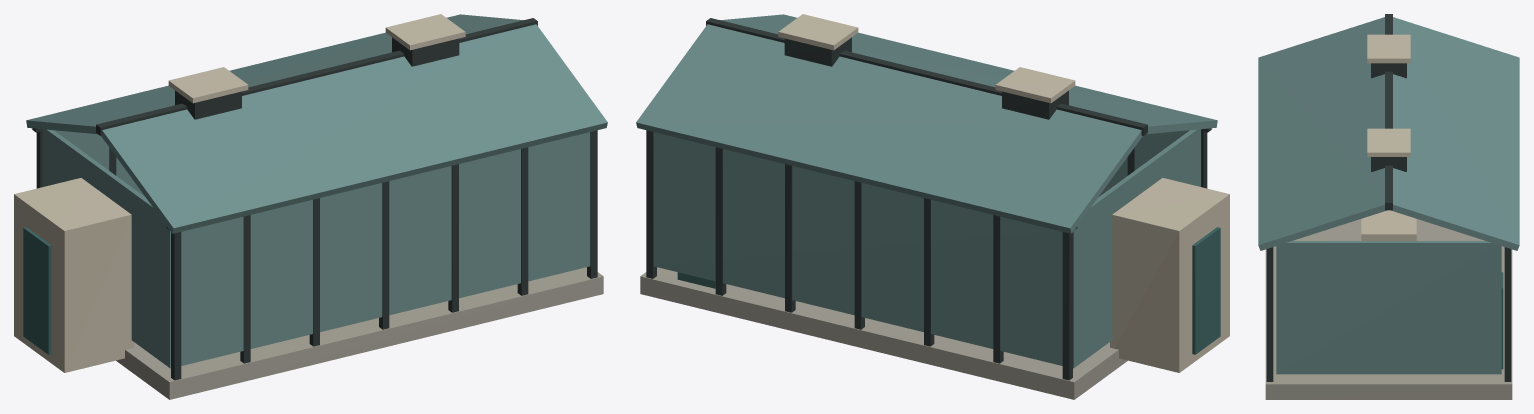
Rendered from research-greenhouse.source.glb.
3 renders of one model, left to right at view 1: azimuth 30°, elevation 25°; view 2: azimuth 150°, elevation 25°; view 3: azimuth 270°, elevation 25°, orthographic. The views are drawn at different scales.
Visible parts, largest first — view 1: research-greenhouse-pitched-roof-panel-1.04-mesh, research-greenhouse-lower-side-glazing-1.93-mesh, research-greenhouse-cream-service-airlock-shell-mesh, research-greenhouse-continuous-curb-foundation-mesh, research-greenhouse-end-glazing--3.45-mesh, research-greenhouse-pitched-roof-panel--1.04-mesh, research-greenhouse-teal-airlock-door-mesh, research-greenhouse-ridge-beam-mesh, research-greenhouse-roof-vent-cap--1.8-mesh, research-greenhouse-roof-vent-cap-1.8-mesh, research-greenhouse-slim-frame-post-rear--3.45-mesh, research-greenhouse-lower-side-glazing--1.93-mesh (+8 smaller); view 2: research-greenhouse-pitched-roof-panel--1.04-mesh, research-greenhouse-lower-side-glazing--1.93-mesh, research-greenhouse-cream-service-airlock-shell-mesh, research-greenhouse-continuous-curb-foundation-mesh, research-greenhouse-end-glazing--3.45-mesh, research-greenhouse-pitched-roof-panel-1.04-mesh, research-greenhouse-teal-airlock-door-mesh, research-greenhouse-ridge-beam-mesh, research-greenhouse-roof-vent-cap--1.8-mesh, research-greenhouse-roof-vent-cap-1.8-mesh, research-greenhouse-slim-frame-post--3.45-mesh, research-greenhouse-lower-side-glazing-1.93-mesh (+8 smaller); view 3: research-greenhouse-end-glazing-3.45-mesh, research-greenhouse-pitched-roof-panel--1.04-mesh, research-greenhouse-pitched-roof-panel-1.04-mesh, research-greenhouse-continuous-curb-foundation-mesh, research-greenhouse-raised-research-bench--1.75-mesh, research-greenhouse-roof-vent-cap--1.8-mesh, research-greenhouse-roof-vent-cap-1.8-mesh, research-greenhouse-slim-frame-post-3.45-mesh, research-greenhouse-slim-frame-post-rear-3.45-mesh, research-greenhouse-ridge-beam-mesh, research-greenhouse-roof-vent-box--1.8-mesh, research-greenhouse-roof-vent-box-1.8-mesh (+1 smaller).
Part boxes in pixels (x1,y1,x2,y2): research-greenhouse-pitched-roof-panel-1.04-mesh: (101,24,607,233); research-greenhouse-lower-side-glazing-1.93-mesh: (181,132,590,365); research-greenhouse-cream-service-airlock-shell-mesh: (14,178,133,372); research-greenhouse-continuous-curb-foundation-mesh: (116,267,603,399); research-greenhouse-end-glazing--3.45-mesh: (43,129,170,368); research-greenhouse-pitched-roof-panel--1.04-mesh: (26,14,523,134); research-greenhouse-teal-airlock-door-mesh: (23,227,51,354); research-greenhouse-ridge-beam-mesh: (96,18,537,135); research-greenhouse-roof-vent-cap--1.8-mesh: (168,67,248,103); research-greenhouse-roof-vent-cap-1.8-mesh: (385,14,465,50); research-greenhouse-slim-frame-post-rear--3.45-mesh: (171,232,181,380); research-greenhouse-lower-side-glazing--1.93-mesh: (54,130,144,196); research-greenhouse-pitched-roof-panel--1.04-mesh: (636,24,1142,233); research-greenhouse-lower-side-glazing--1.93-mesh: (653,132,1062,365); research-greenhouse-cream-service-airlock-shell-mesh: (1110,178,1229,372); research-greenhouse-continuous-curb-foundation-mesh: (640,267,1127,399); research-greenhouse-end-glazing--3.45-mesh: (1073,129,1200,368); research-greenhouse-pitched-roof-panel-1.04-mesh: (720,14,1217,134); research-greenhouse-teal-airlock-door-mesh: (1192,227,1220,354); research-greenhouse-ridge-beam-mesh: (706,18,1147,135); research-greenhouse-roof-vent-cap--1.8-mesh: (995,67,1075,103); research-greenhouse-roof-vent-cap-1.8-mesh: (778,14,858,50); research-greenhouse-slim-frame-post--3.45-mesh: (1062,232,1072,380); research-greenhouse-lower-side-glazing-1.93-mesh: (1099,130,1189,196); research-greenhouse-end-glazing-3.45-mesh: (1276,241,1501,374); research-greenhouse-pitched-roof-panel--1.04-mesh: (1391,17,1519,250); research-greenhouse-pitched-roof-panel-1.04-mesh: (1258,17,1386,250); research-greenhouse-continuous-curb-foundation-mesh: (1265,219,1512,399); research-greenhouse-raised-research-bench--1.75-mesh: (1361,210,1416,240); research-greenhouse-roof-vent-cap--1.8-mesh: (1367,34,1410,63); research-greenhouse-roof-vent-cap-1.8-mesh: (1367,128,1410,156); research-greenhouse-slim-frame-post-3.45-mesh: (1504,250,1511,381); research-greenhouse-slim-frame-post-rear-3.45-mesh: (1266,250,1273,381); research-greenhouse-ridge-beam-mesh: (1385,14,1392,210); research-greenhouse-roof-vent-box--1.8-mesh: (1371,63,1406,78); research-greenhouse-roof-vent-box-1.8-mesh: (1371,157,1406,171).
Size of the model in its own units: 8.28 by 3.8 by 4.24.
